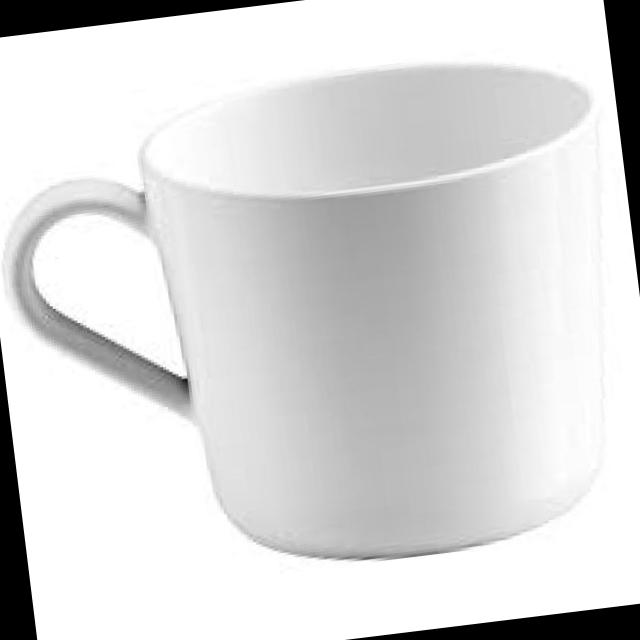Coffee Mug: (0, 42, 640, 604)
